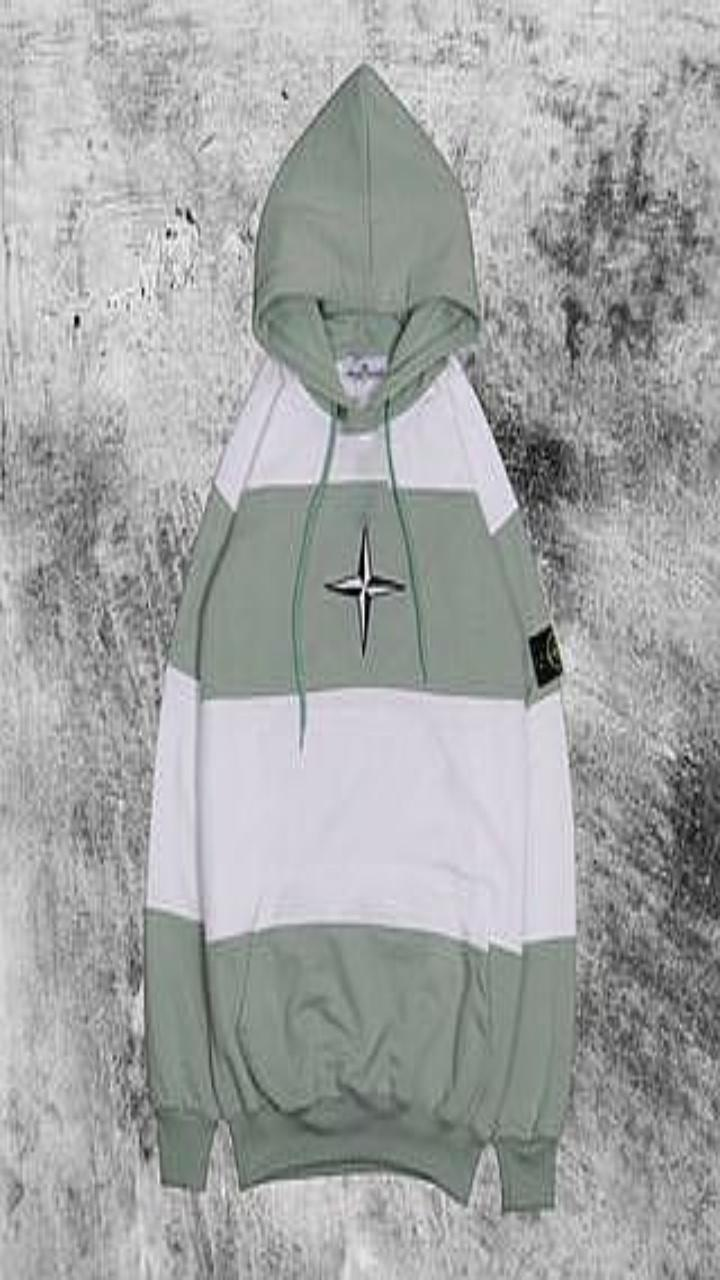Hoodie: (144, 64, 574, 1210)
